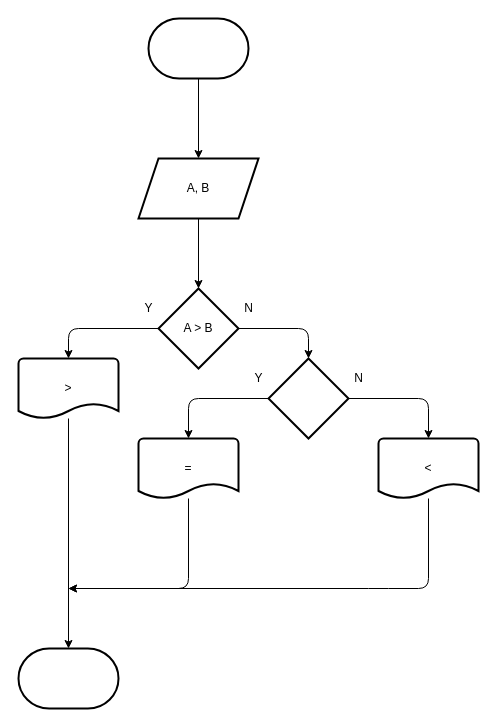
This 496x726 diagram has some shape labels left out. The shapes that lost their labels are listed below. From the top down, each one's centre as x and y in pixels, then its label:
At (x=198, y=48): "start".
At (x=308, y=398): "A = B".
At (x=68, y=678): "finish".
